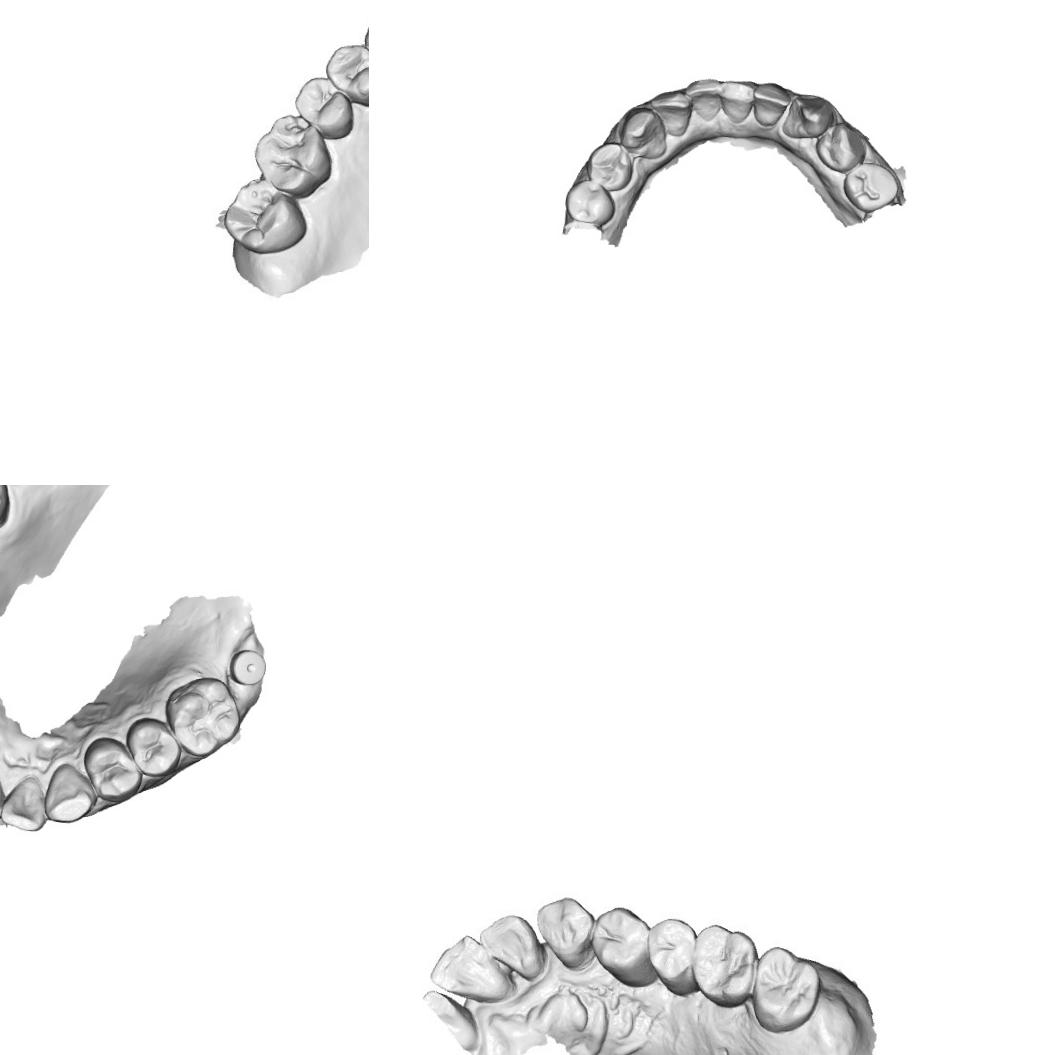canine: (534, 894, 596, 972), (40, 761, 98, 825), (618, 106, 667, 160), (780, 94, 834, 140)
implant: (228, 648, 268, 686)
incisor: (426, 931, 511, 1006), (477, 912, 540, 983), (0, 774, 46, 834), (648, 89, 694, 138), (752, 80, 792, 128), (717, 78, 758, 124), (684, 77, 725, 122)
molar: (249, 110, 334, 196), (220, 178, 310, 258), (747, 943, 823, 1036), (163, 674, 244, 760), (688, 920, 761, 1010)
premolar: (588, 904, 659, 989), (292, 73, 358, 143), (81, 734, 144, 803), (647, 916, 700, 992), (124, 714, 183, 780), (322, 37, 369, 108), (841, 160, 900, 214), (814, 120, 866, 174), (564, 177, 617, 228), (586, 140, 634, 192)
